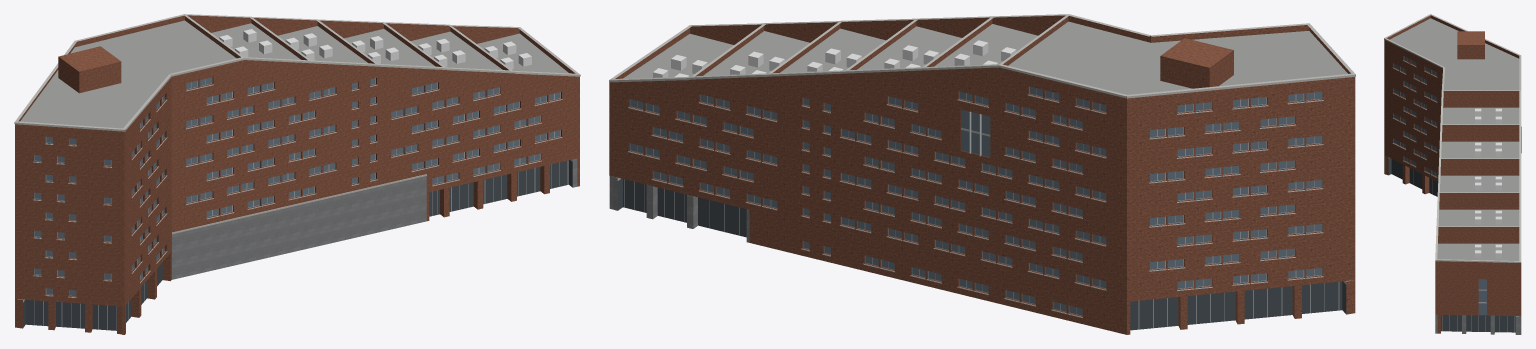
3 renders of one model, left to right at view 1: azimuth 30°, elevation 25°; view 2: azimuth 150°, elevation 25°; view 3: azimuth 270°, elevation 25°, orthographic. The views are drawn at different scales.
Parts seen in each view (by area): view 1: dormG__brick, dormG__roof, dormG__granite, dormG__glass, dormG__glassDark, dormG__coping, dormG__reveal, dormG__frame, dormG__unit, dormG__sill, dormG__core; view 2: dormG__brick, dormG__roof, dormG__glass, dormG__glassDark, dormG__reveal, dormG__frame, dormG__coping, dormG__sill, dormG__core, dormG__unit, dormG__granite; view 3: dormG__brick, dormG__roof, dormG__coping, dormG__glassDark, dormG__glass, dormG__unit, dormG__core, dormG__reveal, dormG__frame, dormG__granite, dormG__sill.
Boxes of the visible parts, x1,y1,x2,y2 form: dormG__brick: (15,15,579,334); dormG__roof: (20,20,568,128); dormG__granite: (172,158,577,279); dormG__glass: (34,77,560,295); dormG__glassDark: (23,160,572,330); dormG__coping: (14,14,580,234); dormG__reveal: (33,77,561,297); dormG__frame: (23,77,572,330); dormG__unit: (219,29,531,69); dormG__sill: (33,84,562,297); dormG__core: (58,46,121,93); dormG__brick: (609,15,1355,334); dormG__roof: (623,21,1347,94); dormG__glass: (630,86,1321,315); dormG__glassDark: (617,178,1346,330); dormG__reveal: (628,86,1322,316); dormG__frame: (617,86,1346,329); dormG__coping: (609,14,1355,98); dormG__sill: (628,94,1323,317); dormG__core: (1160,38,1233,88); dormG__unit: (653,40,1016,77); dormG__granite: (609,176,749,242); dormG__brick: (1384,15,1521,333); dormG__roof: (1390,18,1519,260); dormG__coping: (1384,14,1521,262); dormG__glassDark: (1388,158,1515,332); dormG__glass: (1394,56,1486,314); dormG__unit: (1475,108,1501,258); dormG__core: (1457,31,1484,59); dormG__reveal: (1393,56,1486,315); dormG__frame: (1388,56,1521,332); dormG__granite: (1435,314,1521,334); dormG__sill: (1392,60,1437,177).
Bounding box in the file's own units: 95.09 × 34.9 × 29.88.
Materials: 12 (4 with a texture image).
